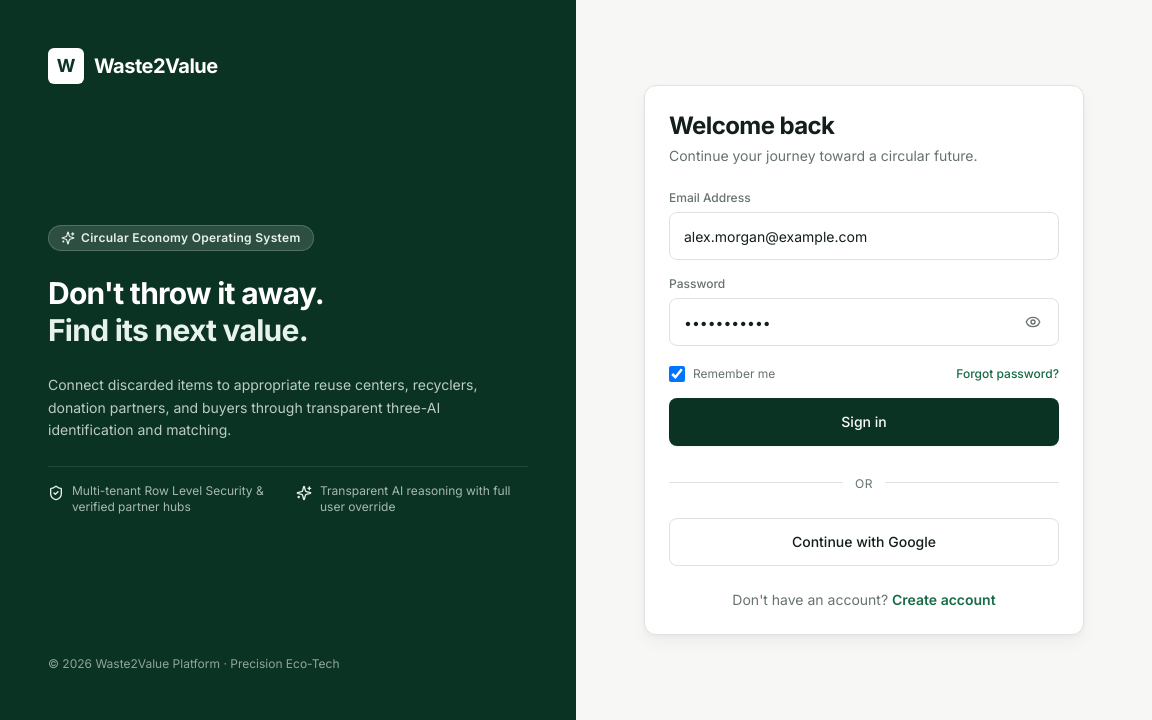
Scenario: Authentication Flows & Security UX › LoginPage Behavior › validates email format
Replace the text in the field labelled "Email Address" with "not-an-email" at (864, 236), box [669,212,1059,260]
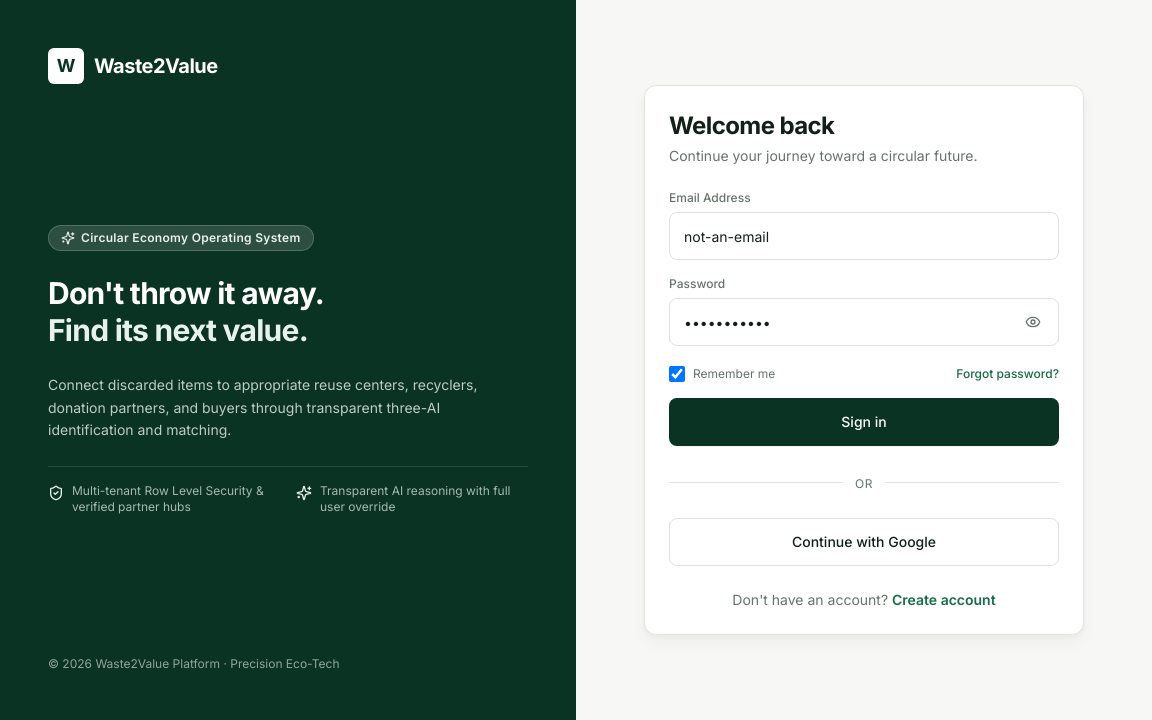
Click the button "Sign in" at (864, 422), box [669,398,1059,446]
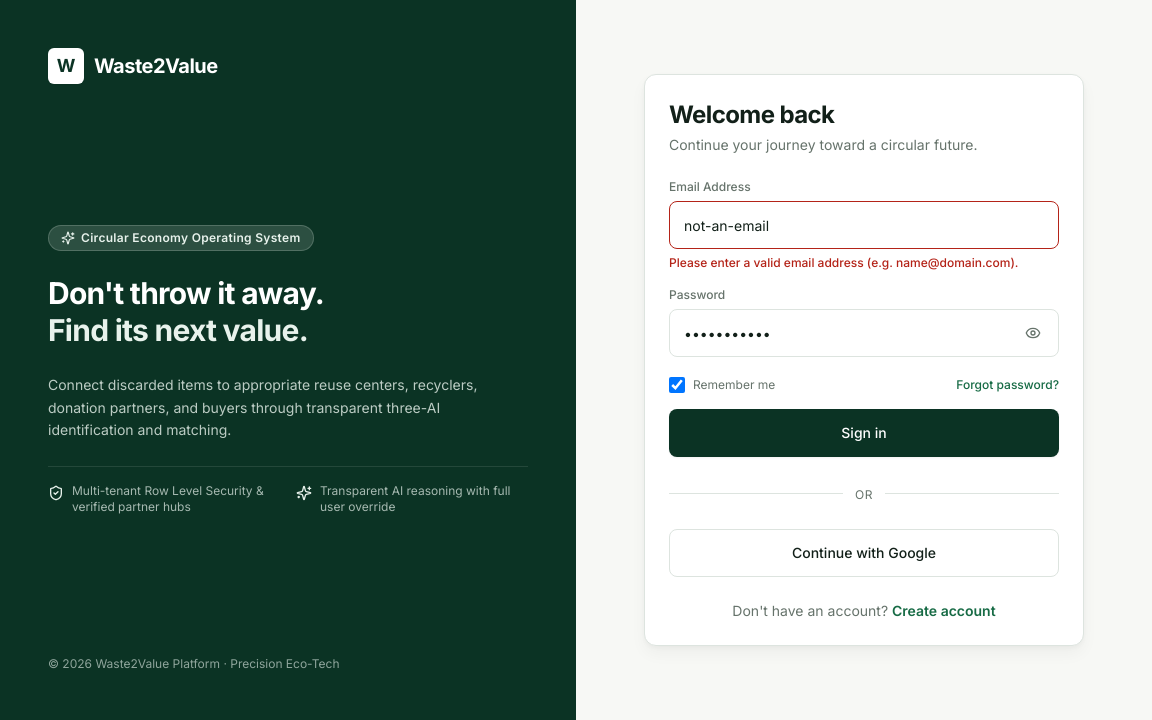
expect the text "Please enter a valid email address (e.g. name@domain.com)." is shown: met, box [669,255,1059,271]
